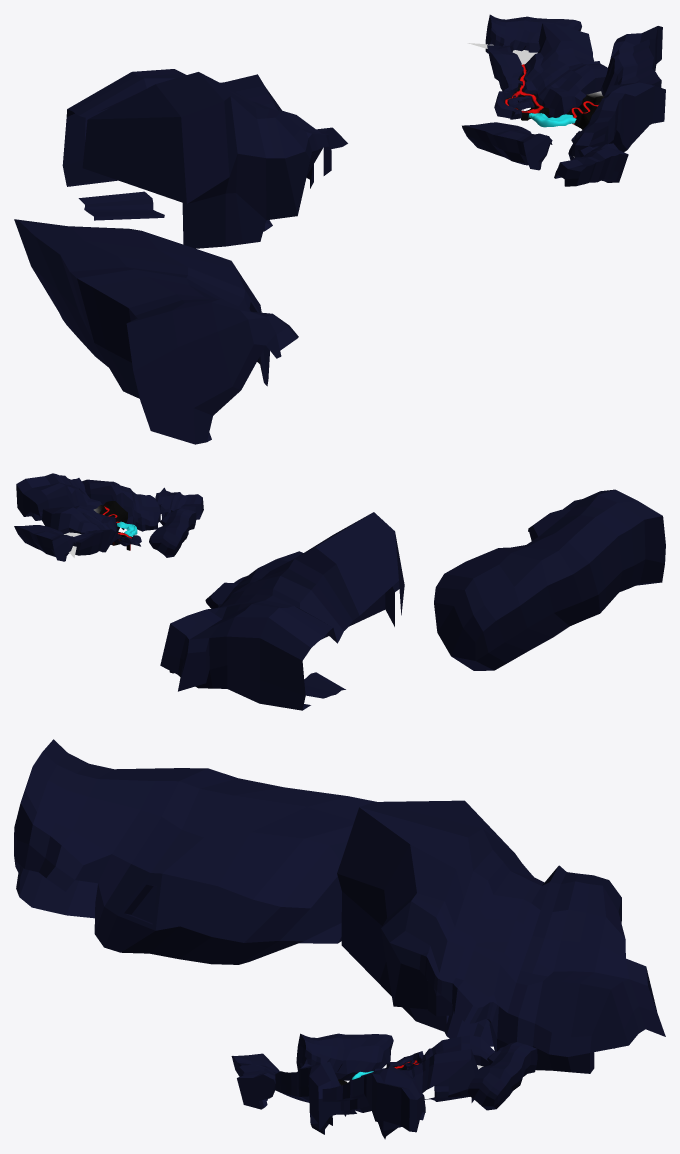
The model's file is med_v2.glb.
3 renders of one model, top to bottom at view 1: azimuth 30°, elevation 25°; view 2: azimuth 150°, elevation 25°; view 3: azimuth 270°, elevation 25°, orthographic. The views are drawn at different scales.
Parts seen in each view (by area): view 1: Layer_2.007, Layer_2.006, Layer_2.001, Layer_2.005, Layer_2.008, Layer_2.004, Rocks, Layer_2.002, Layer_2.003, EndPath; view 2: Layer_2.006, Layer_2.007, Layer_2.008, Layer_2.005, Layer_2.001, Layer_2.004, Layer_2.002, Layer_2.003, Rocks, EndPath; view 3: Layer_2.006, Layer_2.007, Layer_2.008, Layer_2.004, Layer_2.002, Layer_2.001, Layer_2.005, Rocks, Layer_2.003.
Part boxes in pixels (x1,y1,x2,y2): Layer_2.007: (14,219,298,444); Layer_2.006: (62,69,347,248); Layer_2.001: (523,23,607,117); Layer_2.005: (568,82,665,160); Layer_2.008: (600,26,662,96); Layer_2.004: (462,122,552,170); Rocks: (513,95,628,186); Layer_2.002: (485,14,581,53); Layer_2.003: (487,44,523,119); EndPath: (566,91,603,129); Layer_2.006: (160,512,404,710); Layer_2.007: (434,489,665,670); Layer_2.008: (16,473,102,520); Layer_2.005: (82,479,160,531); Layer_2.001: (42,505,117,544); Layer_2.004: (149,508,196,557); Layer_2.002: (14,525,76,561); Layer_2.003: (73,529,141,555); Rocks: (155,487,203,519); EndPath: (93,501,127,529); Layer_2.006: (337,800,665,1073); Layer_2.007: (14,739,376,964); Layer_2.008: (322,1065,425,1139); Layer_2.004: (296,1033,393,1080); Layer_2.002: (466,1042,537,1110); Layer_2.001: (374,1049,478,1120); Layer_2.005: (275,1061,346,1134); Rocks: (231,1053,417,1109); Layer_2.003: (386,1035,494,1066).
Size of the model in its own units: 981 by 260 by 758.
